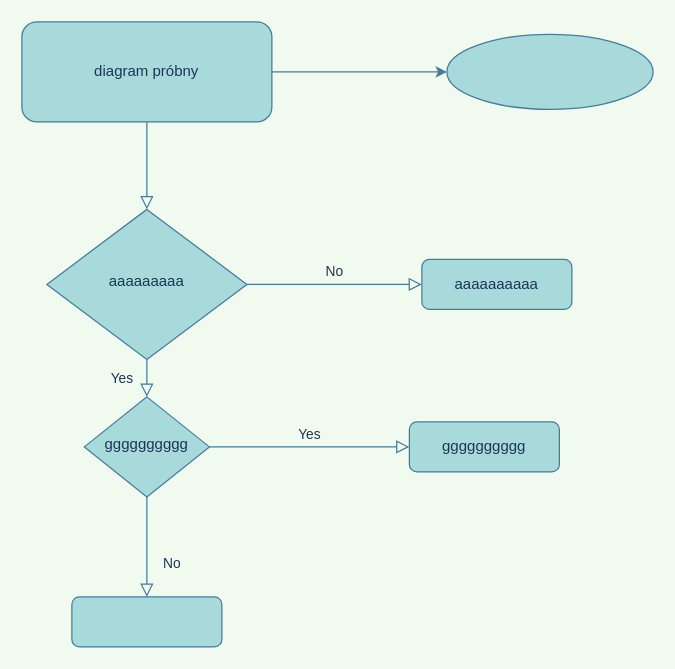
Image size: 675x669. Some labels were removed from this diagram. The shapes that lost their labels are listed below. From the top down, each one's box as (x1, y1, x2, y2) in pixels, then its label:
(446, 33, 653, 109): dsfdg
(71, 596, 222, 647): hhhhhhhh
